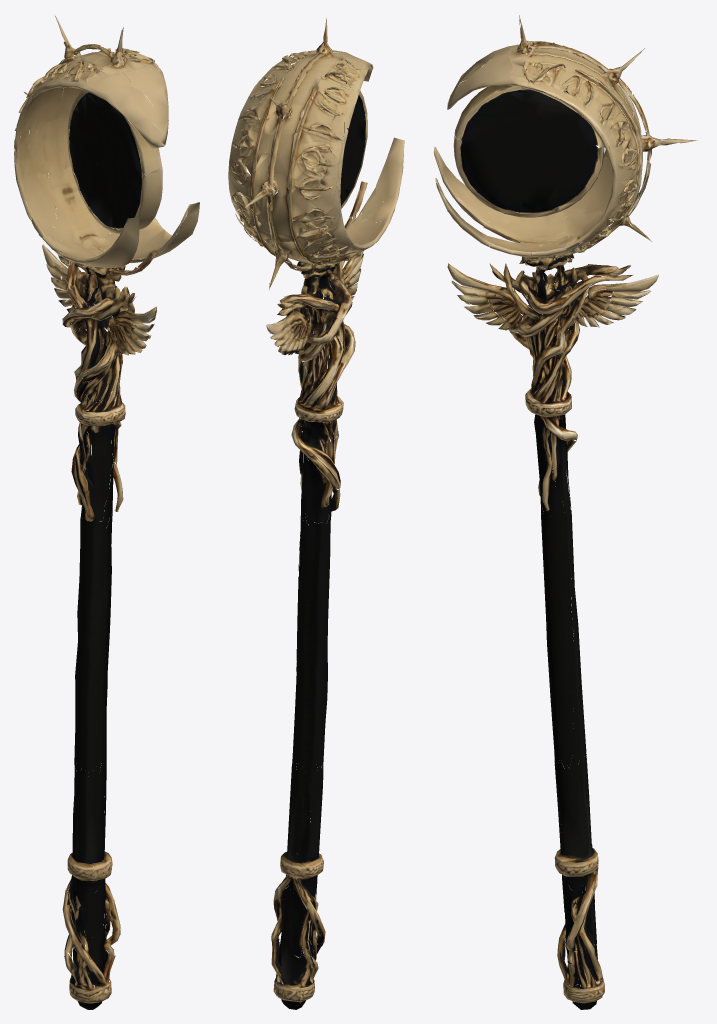
The model's file is LunaEclipseStaff_L30.glb.
The picture shows the model from 3 angles, left to right: view 1: azimuth 30°, elevation 25°; view 2: azimuth 150°, elevation 25°; view 3: azimuth 270°, elevation 25°; orthographic projection. The views are drawn at different scales.
Visible parts, largest first — view 1: Weapon; view 2: Weapon; view 3: Weapon.
Part boxes in pixels (x1,y1,x2,y2): Weapon: (14, 16, 199, 1009); Weapon: (228, 18, 404, 1009); Weapon: (433, 15, 698, 1009).
Size of the model in its own units: 0.1916 by 1.6 by 0.3923.
Materials: 1 (1 with a texture image).
